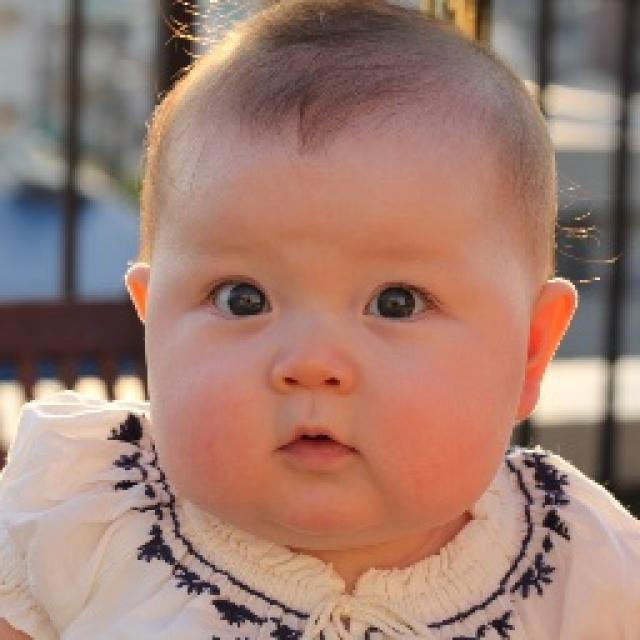earlobe: (514, 375, 544, 421)
eye: (359, 280, 437, 320), (200, 277, 276, 318)
nose: (274, 373, 354, 413)
wholeear: (515, 277, 578, 420)
